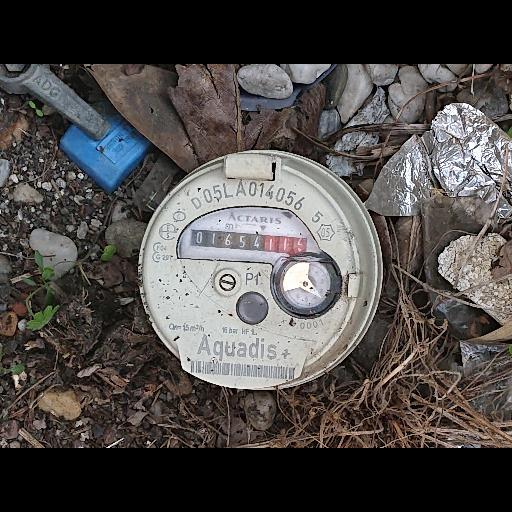0: (194, 230, 205, 246)
1: (279, 236, 293, 254), (264, 236, 278, 253), (206, 231, 218, 248)
2: (293, 237, 307, 255)
4: (251, 235, 263, 252)
5: (235, 232, 249, 250)
6: (221, 231, 234, 249)
border_water_meter_number: (188, 226, 310, 262)
